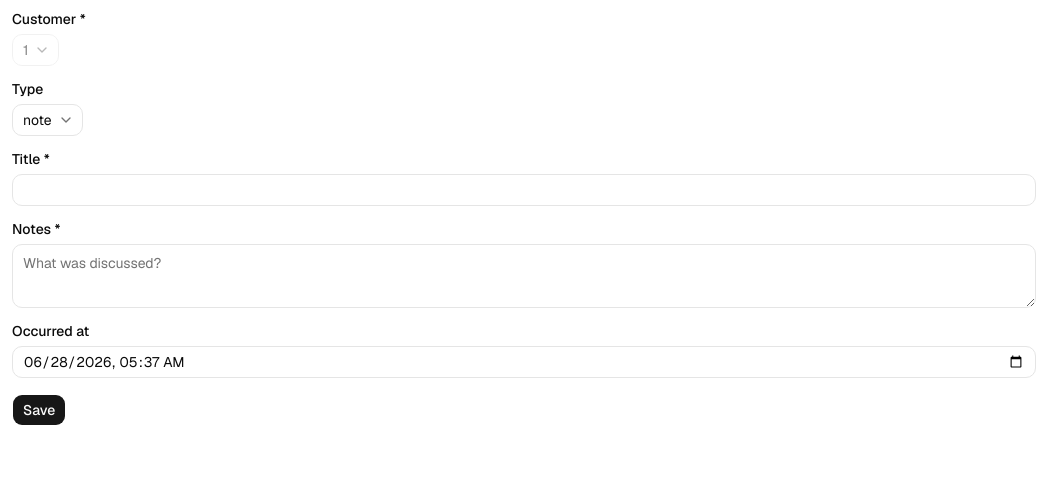
InteractionForm validation › requires title and notes
Click the button "Save".
click(39, 410)  # box top-left (12, 394), bottom-right (66, 426)
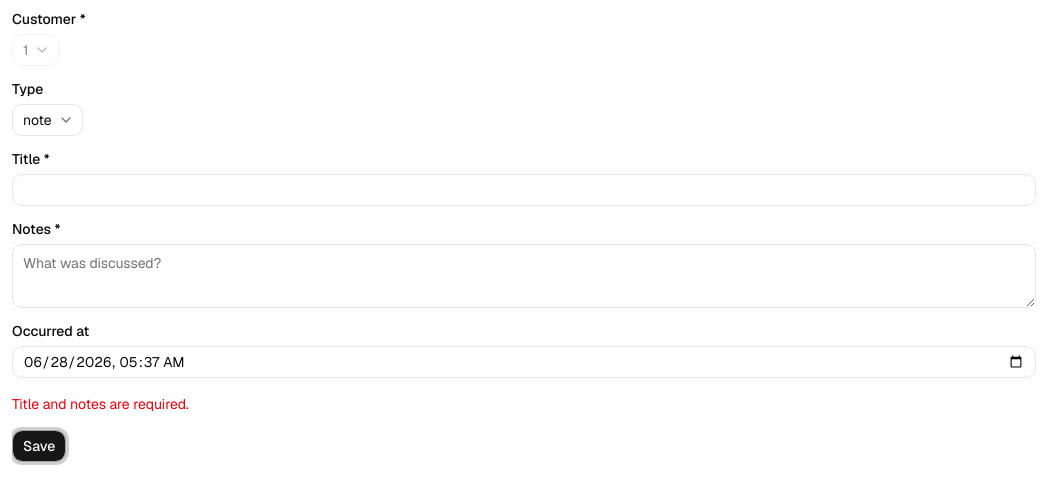
Now the text "Title and notes are required." is shown, box top-left (12, 395), bottom-right (189, 413)
